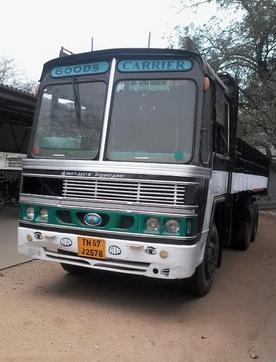truck: (30, 45, 276, 305)
